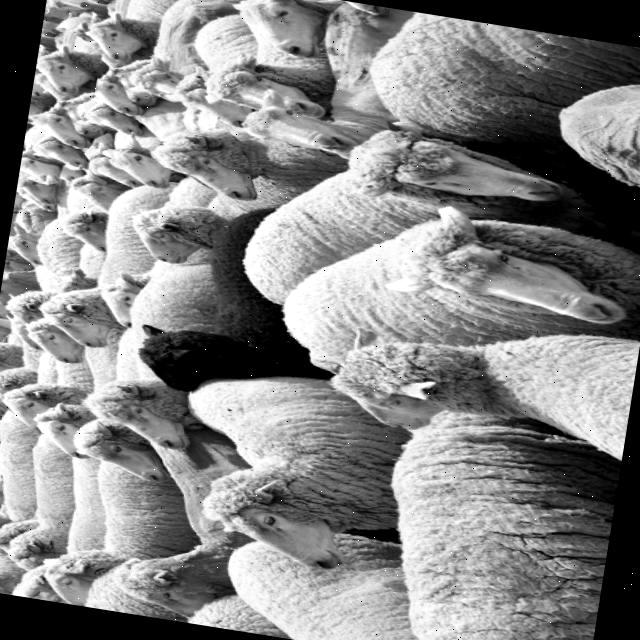sheep: (193, 376, 410, 568), (328, 331, 638, 460)
